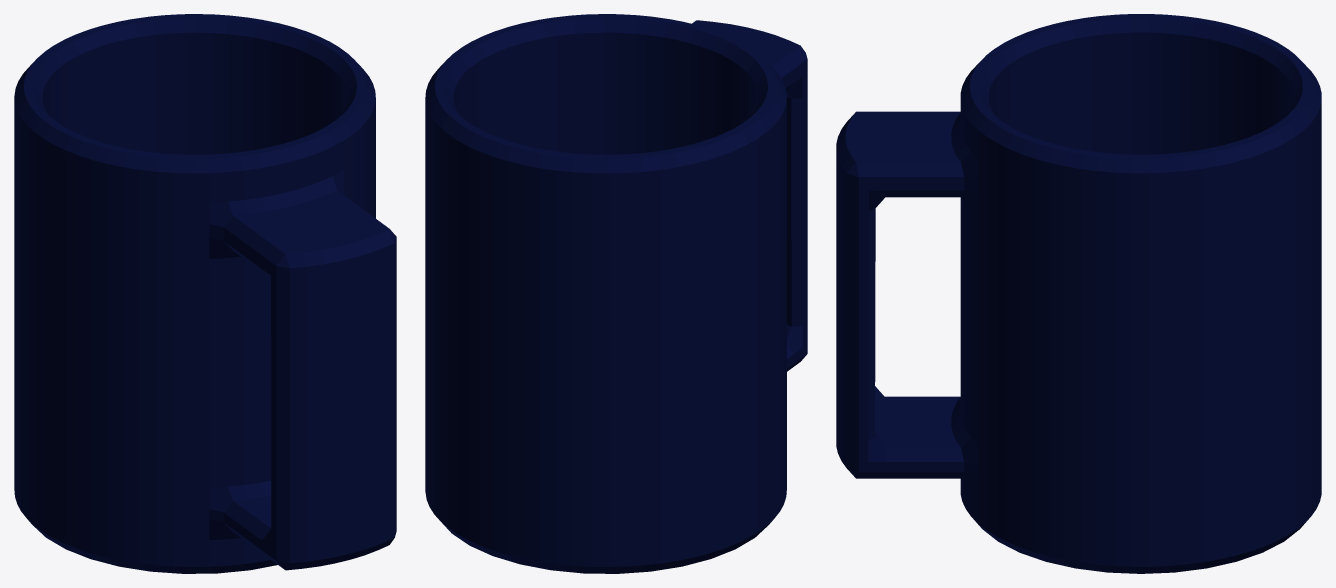
Rendered from cup.glb.
3 views of the same model, side by side, from view 1: azimuth 30°, elevation 25°; view 2: azimuth 150°, elevation 25°; view 3: azimuth 270°, elevation 25° (orthographic).
Visible parts, largest first — view 1: Cylinder; view 2: Cylinder; view 3: Cylinder.
Part boxes in pixels (x1=…): Cylinder: x1=14, y1=14, x2=396, y2=573; Cylinder: x1=425, y1=14, x2=807, y2=573; Cylinder: x1=836, y1=14, x2=1321, y2=573.
Size of the model in its own units: 0.0801 by 0.1016 by 0.1076.
